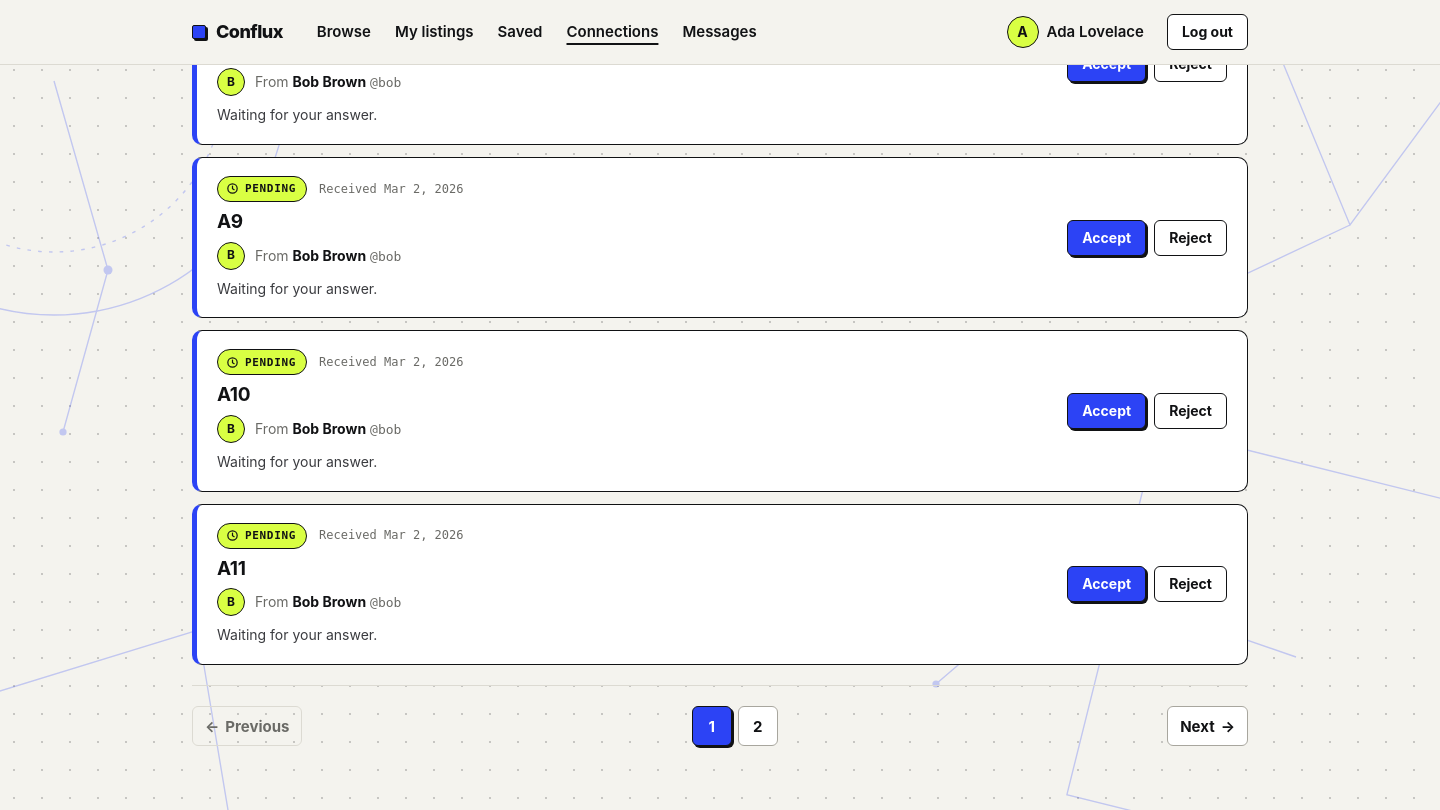
it: Received requests › paginates with the backend page metadata
(page scrolled)
Click the link "Next →": (1208,726) [1167, 706, 1248, 746]
(page scrolled)
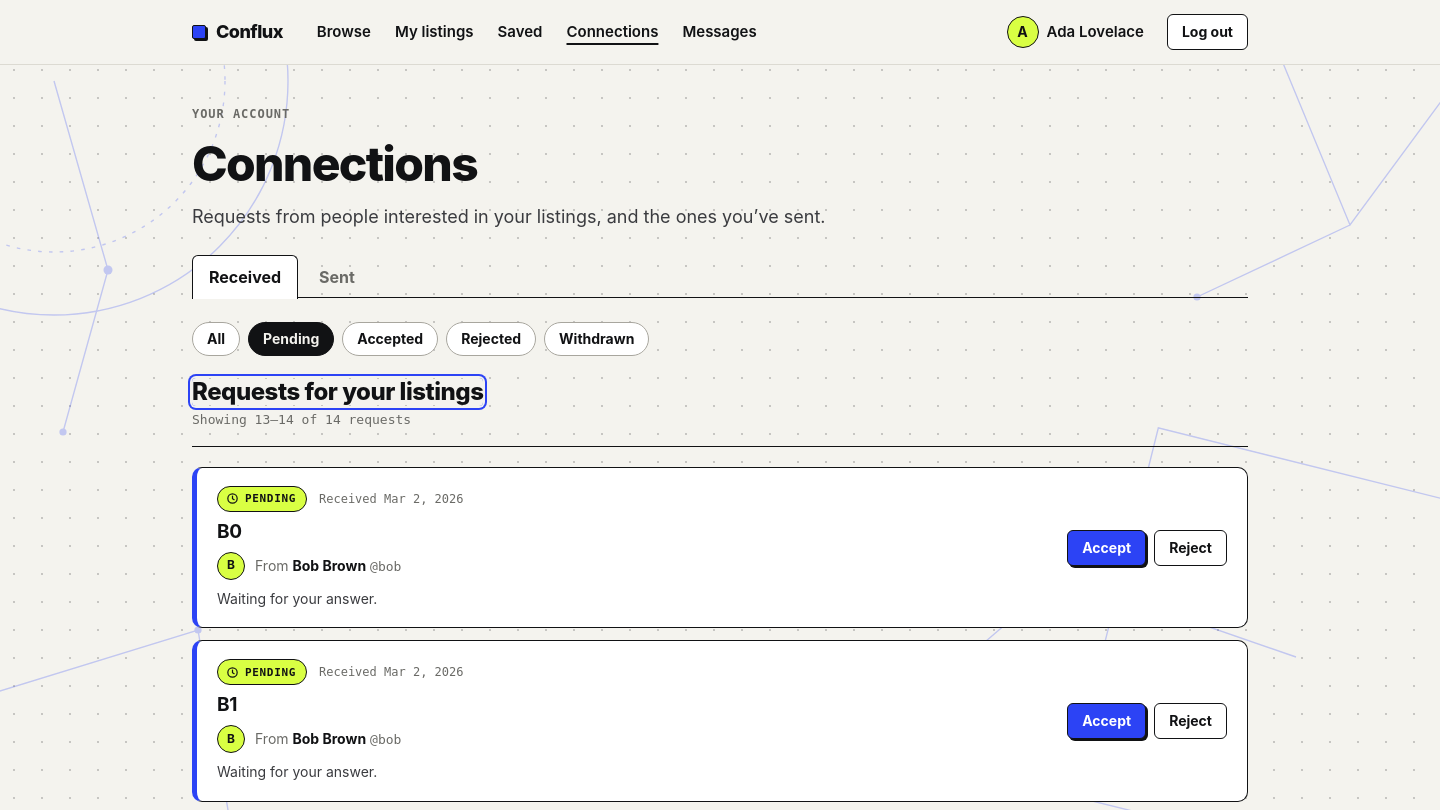
Expected: the heading named "B0," is shown, [217, 520, 242, 543]
Expected: the message reads "Showing 13–14 of 14 requests", [192, 412, 411, 427]
